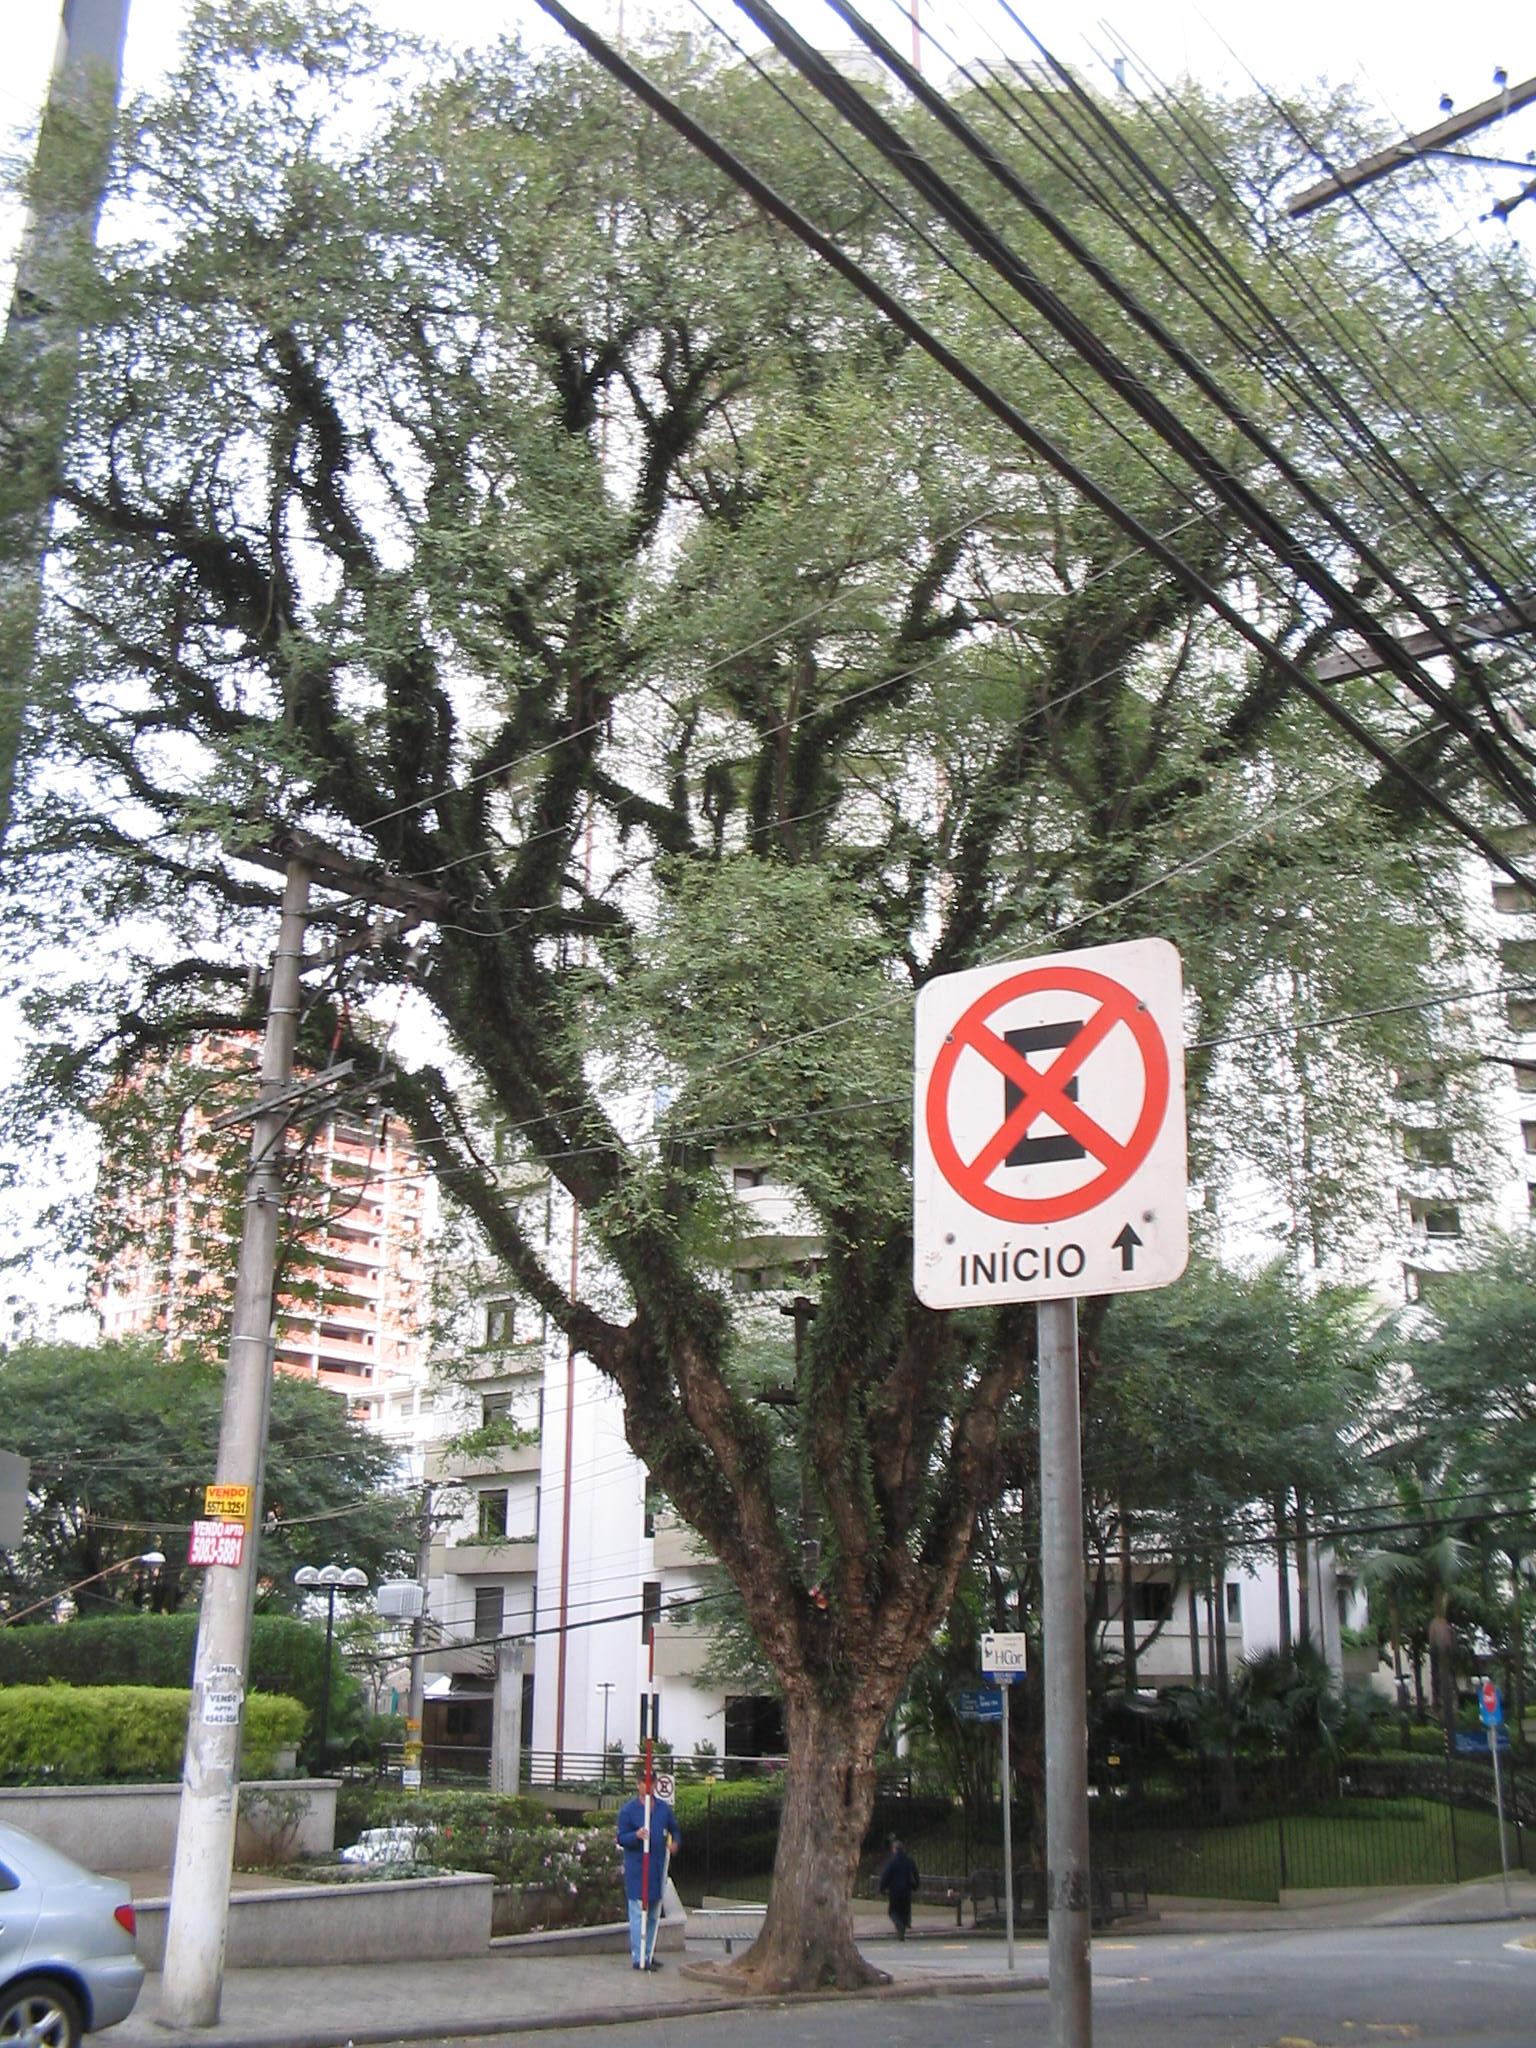crown: (11, 5, 1533, 1432)
stem: (702, 1684, 939, 1992)
stick: (611, 1624, 679, 1979)
tree: (6, 3, 1536, 2003)
